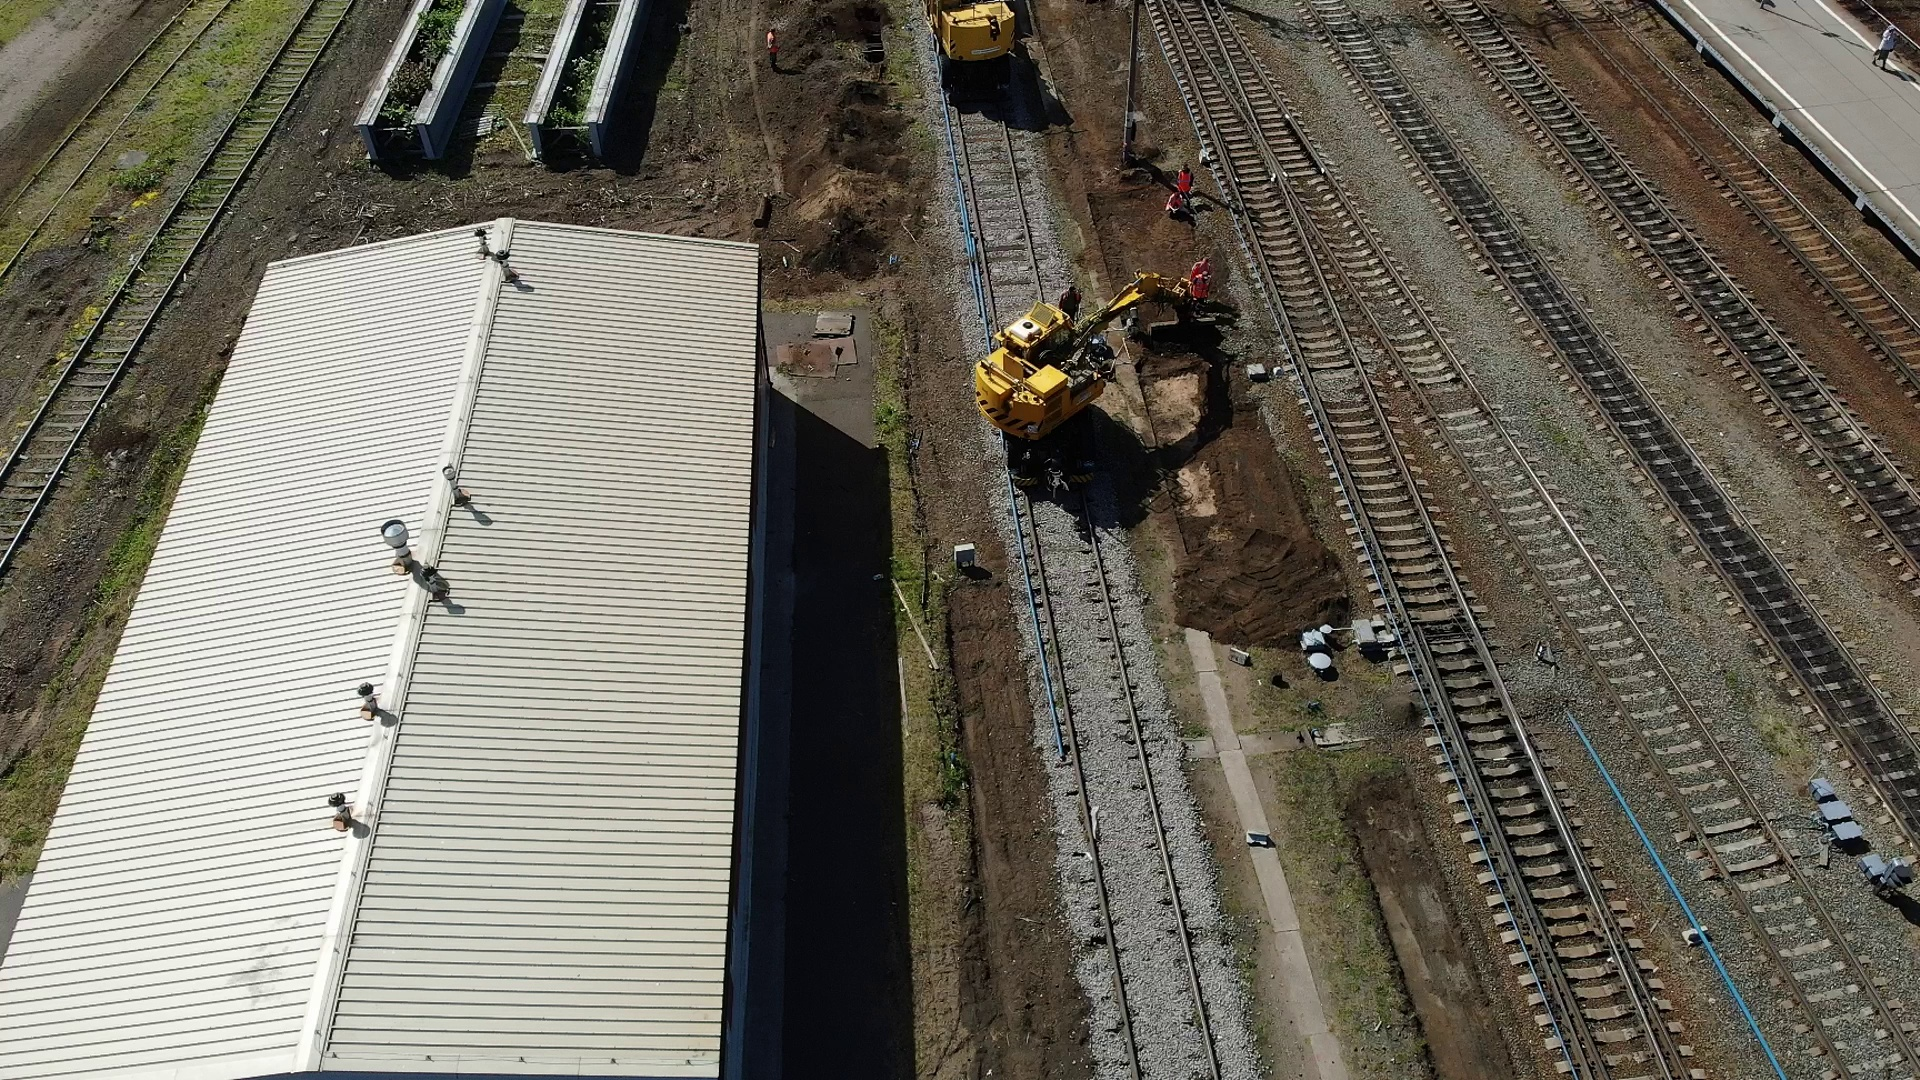kjtv: (976, 276, 1151, 489)
